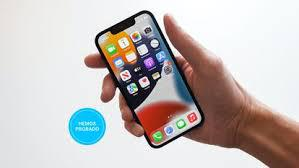Hand: (83, 13, 241, 152)
Smartphone: (95, 22, 205, 142)
